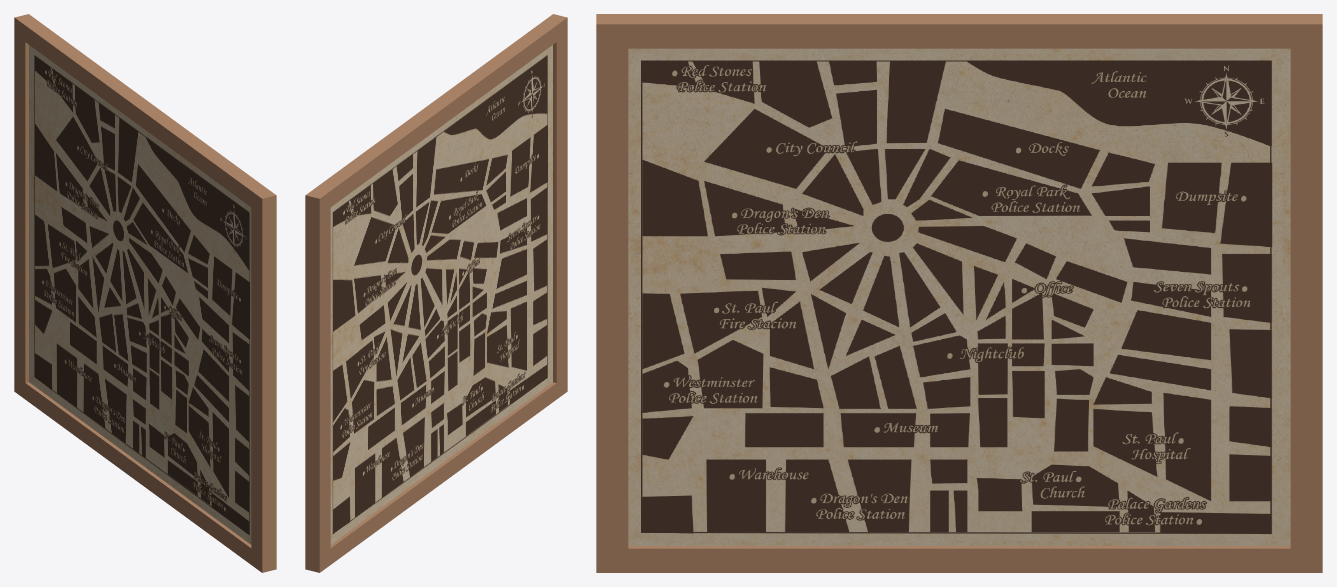
Rendered from map.fbx.
3 views of the same model, side by side, from view 1: azimuth 30°, elevation 25°; view 2: azimuth 150°, elevation 25°; view 3: azimuth 270°, elevation 25° (orthographic). The views are drawn at different scales.
Parts seen in each view (by area): view 1: Cube.001, Cube; view 2: Cube.001, Cube; view 3: Cube.001, Cube.
Part boxes in pixels (x1,y1,x2,y2): Cube.001: (29, 45, 251, 544); Cube: (14, 14, 276, 572); Cube.001: (330, 45, 552, 544); Cube: (305, 14, 567, 572); Cube.001: (628, 48, 1290, 545); Cube: (596, 14, 1322, 572).
Bounding box in the file's own units: 20.06 × 500 × 600.
